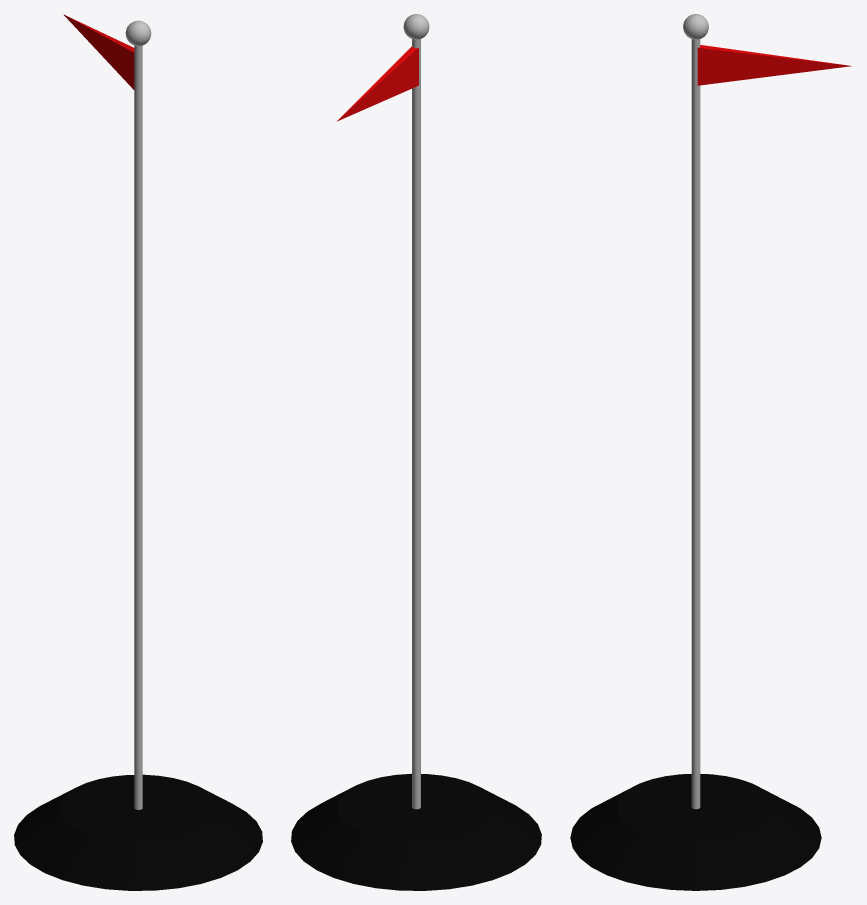
Rendered from Flagpole.fbx.
3 views of the same model, side by side, from view 1: azimuth 30°, elevation 25°; view 2: azimuth 150°, elevation 25°; view 3: azimuth 270°, elevation 25° (orthographic).
Parts seen in each view (by area): view 1: Pole, Flag; view 2: Pole, Flag; view 3: Pole, Flag.
Part boxes in pixels (box(x1,y1,x2,y2)): Pole: box(14, 20, 262, 890); Flag: box(63, 14, 134, 89); Pole: box(291, 14, 541, 890); Flag: box(337, 46, 418, 121); Pole: box(570, 14, 821, 890); Flag: box(697, 45, 851, 85).
Bounding box in the file's own units: 951 × 3435 × 1069.
